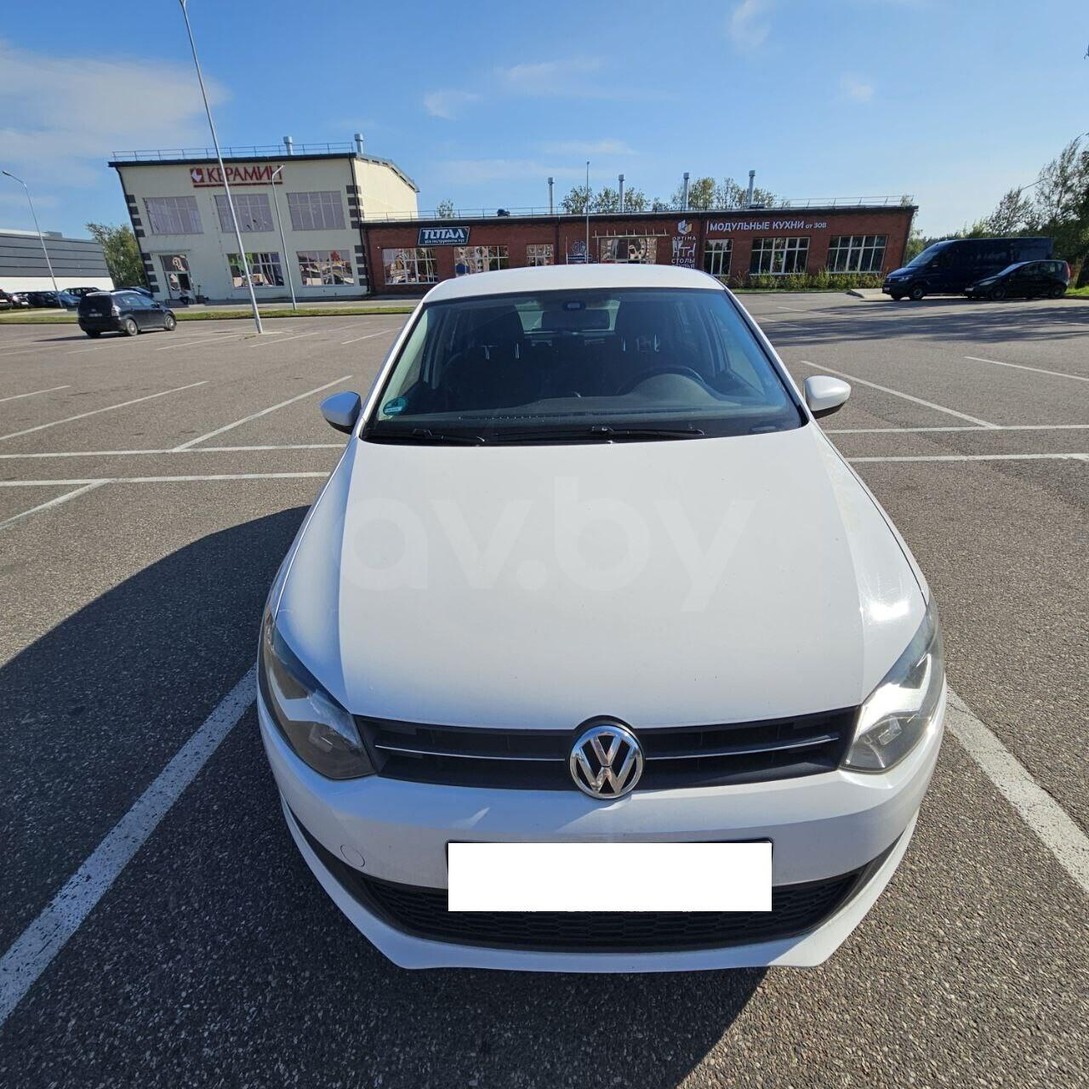Polo_2009-2015: (231, 216, 984, 1012)
